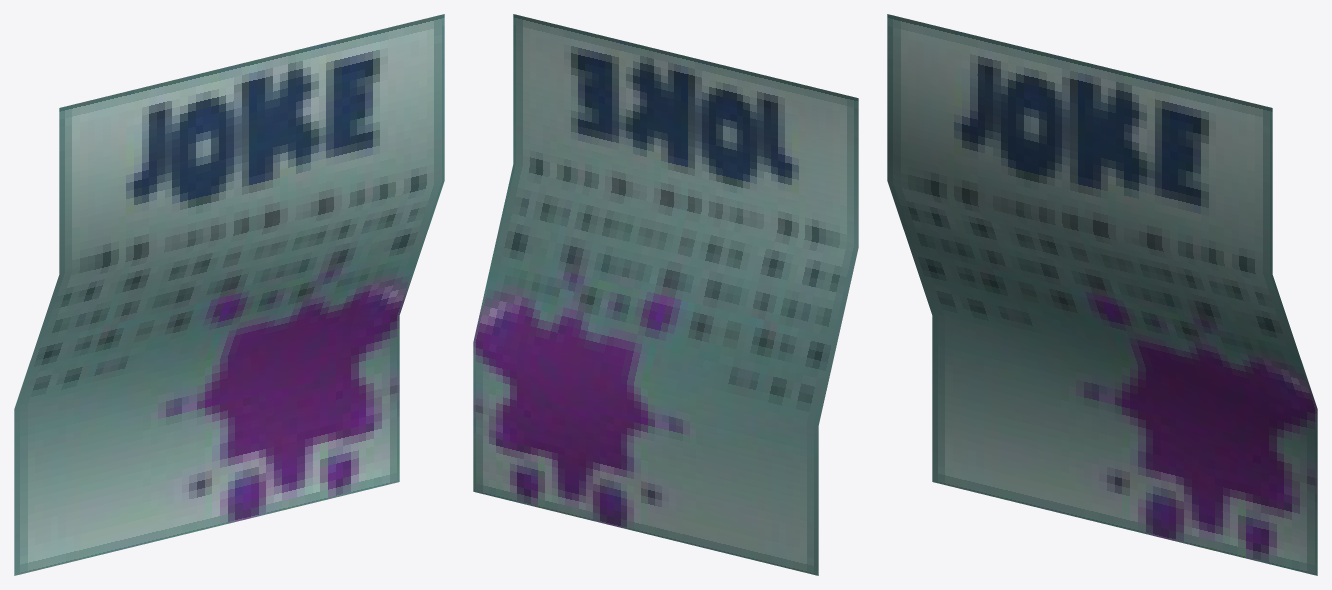
Rendered from field_maze_memo.glb.
3 renders of one model, left to right at view 1: azimuth 30°, elevation 25°; view 2: azimuth 150°, elevation 25°; view 3: azimuth 330°, elevation 25°, orthographic. The views are drawn at different scales.
Parts seen in each view (by area): view 1: memo; view 2: memo; view 3: memo.
Boxes of the visible parts, left/top/right/bottom form: memo: left=14, top=14, right=444, bottom=575; memo: left=473, top=14, right=858, bottom=575; memo: left=887, top=14, right=1317, bottom=575.
Size of the model in its own units: 1.43 by 1.78 by 0.2883.
Materials: 1 (1 with a texture image).
